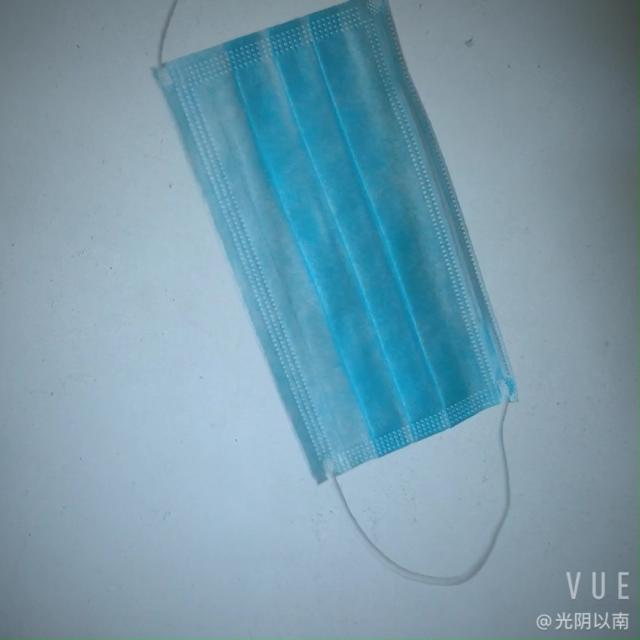face mask: (149, 2, 522, 485)
